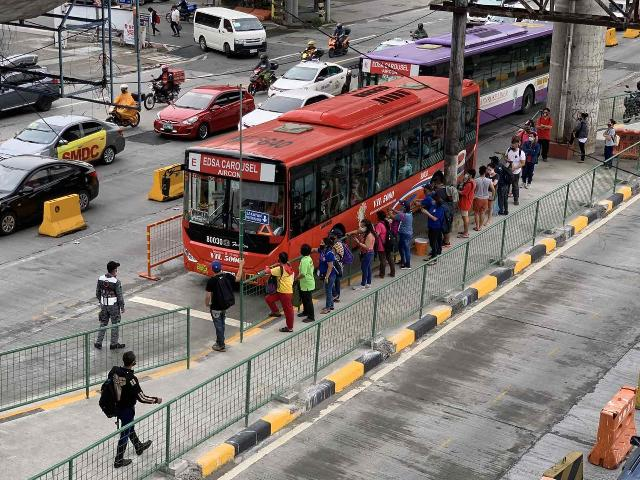bus: (173, 67, 390, 283), (360, 20, 559, 125)
car: (0, 155, 101, 237), (2, 114, 125, 166), (153, 84, 258, 140), (238, 91, 327, 133), (269, 60, 353, 103), (0, 67, 60, 118)
motorcycle: (105, 83, 147, 133), (143, 63, 186, 110), (247, 52, 283, 97), (298, 39, 326, 72), (329, 23, 352, 58), (166, 3, 193, 24), (409, 17, 429, 41)
van: (191, 7, 269, 58)
